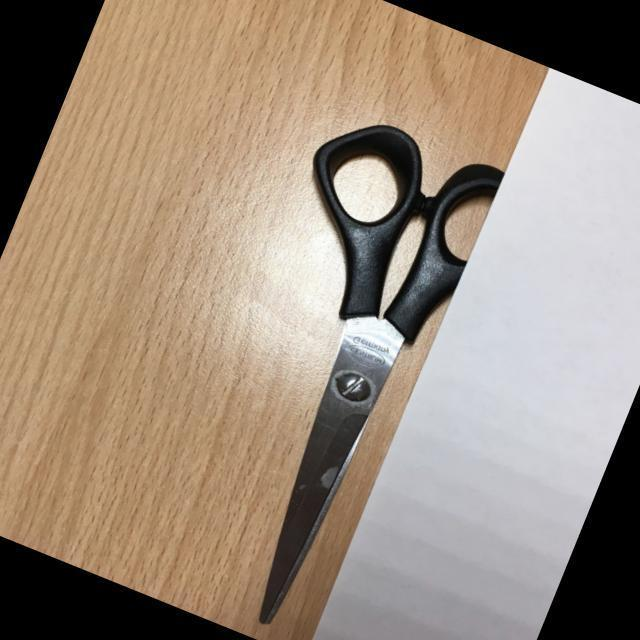scissors: (141, 100, 504, 640)
